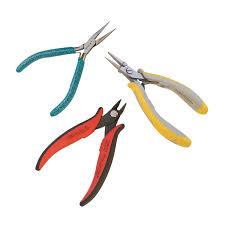pliers: (34, 97, 127, 206), (15, 20, 117, 116)
